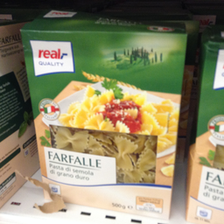pasta: (19, 11, 188, 221)
